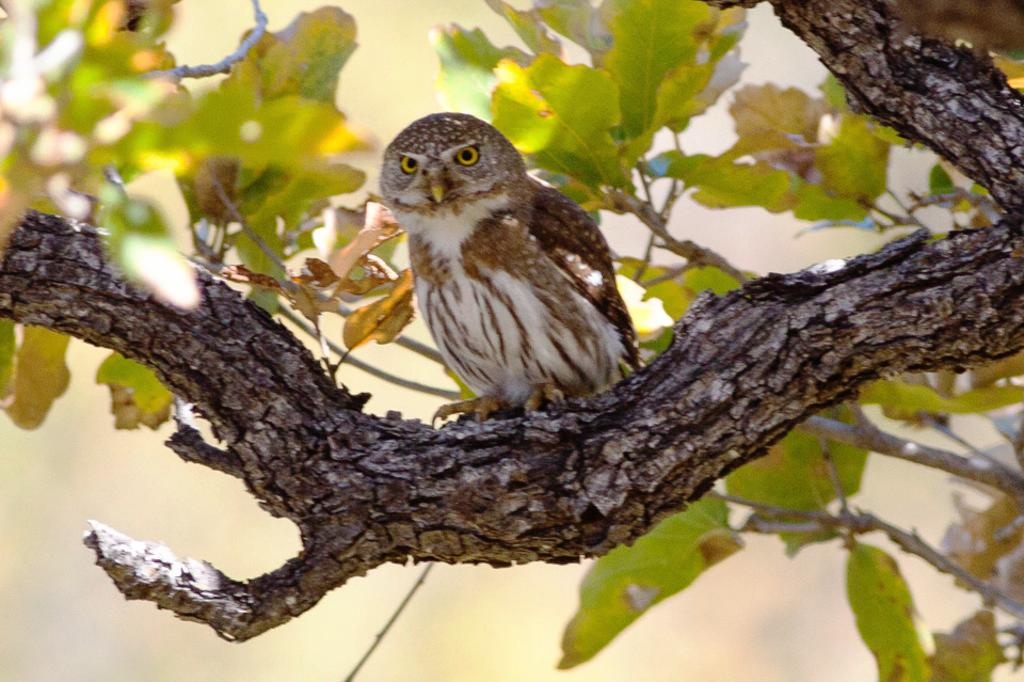Owl: (376, 107, 648, 428)
